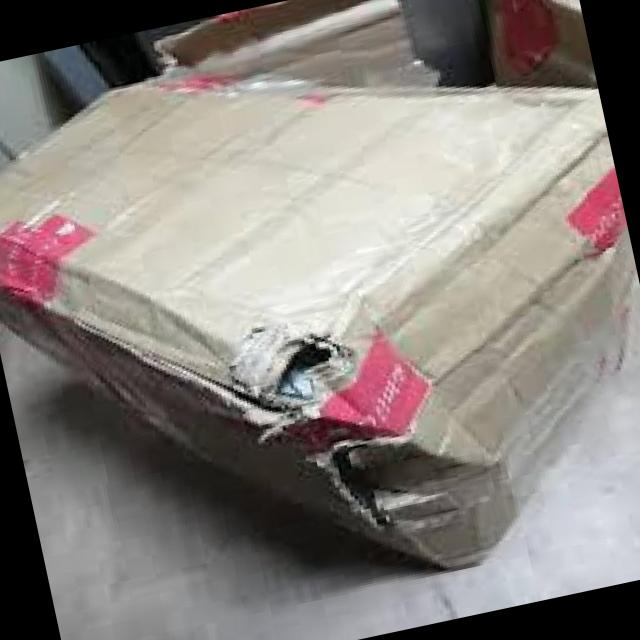box: (297, 41, 640, 554)
